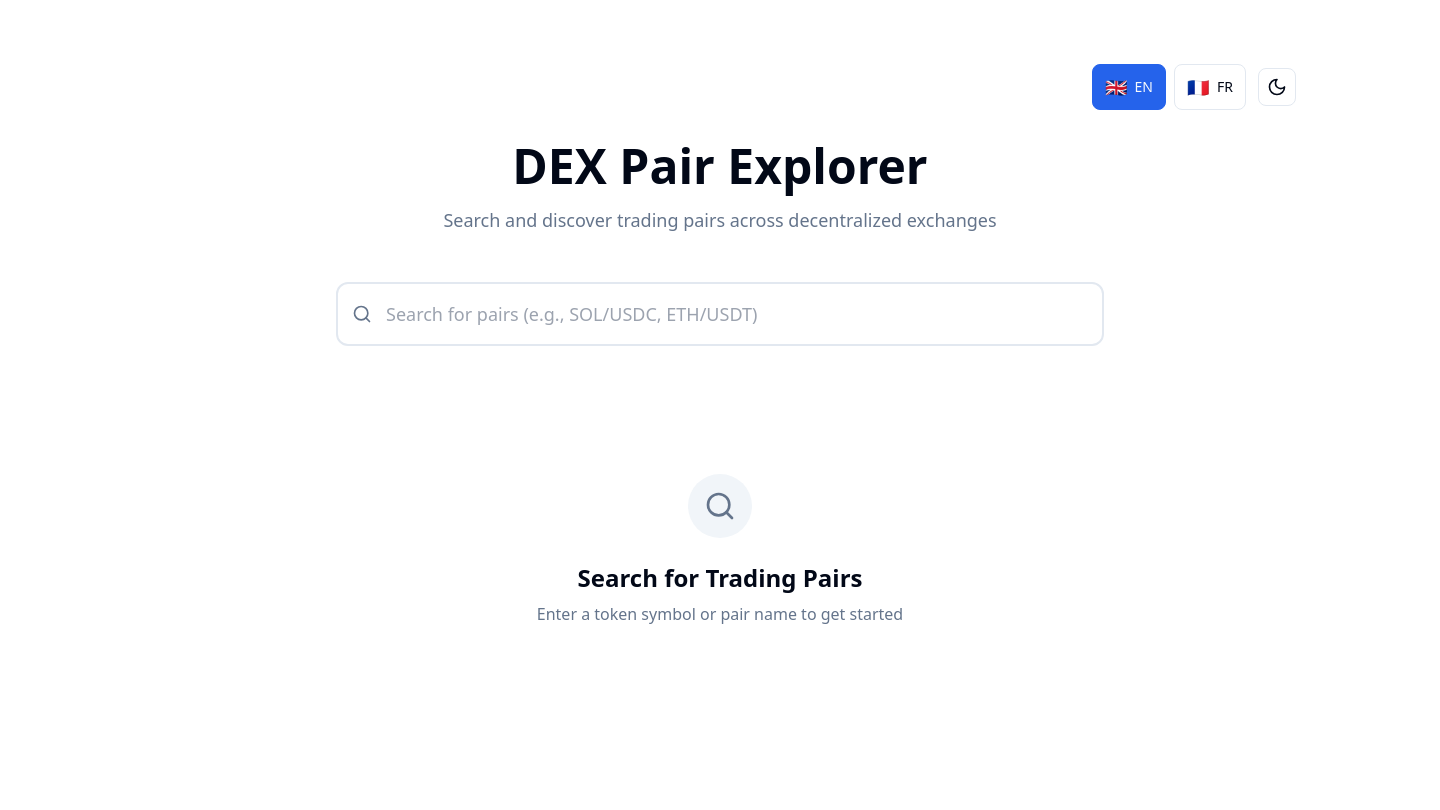
Test: SearchPage › should pass correct props to Pagination component
Type "SOL" into the field with placeholder "Search for pairs (e.g., SOL/USDC, ETH/USDT)". click: (720, 314)
box: [336,282,1104,346]
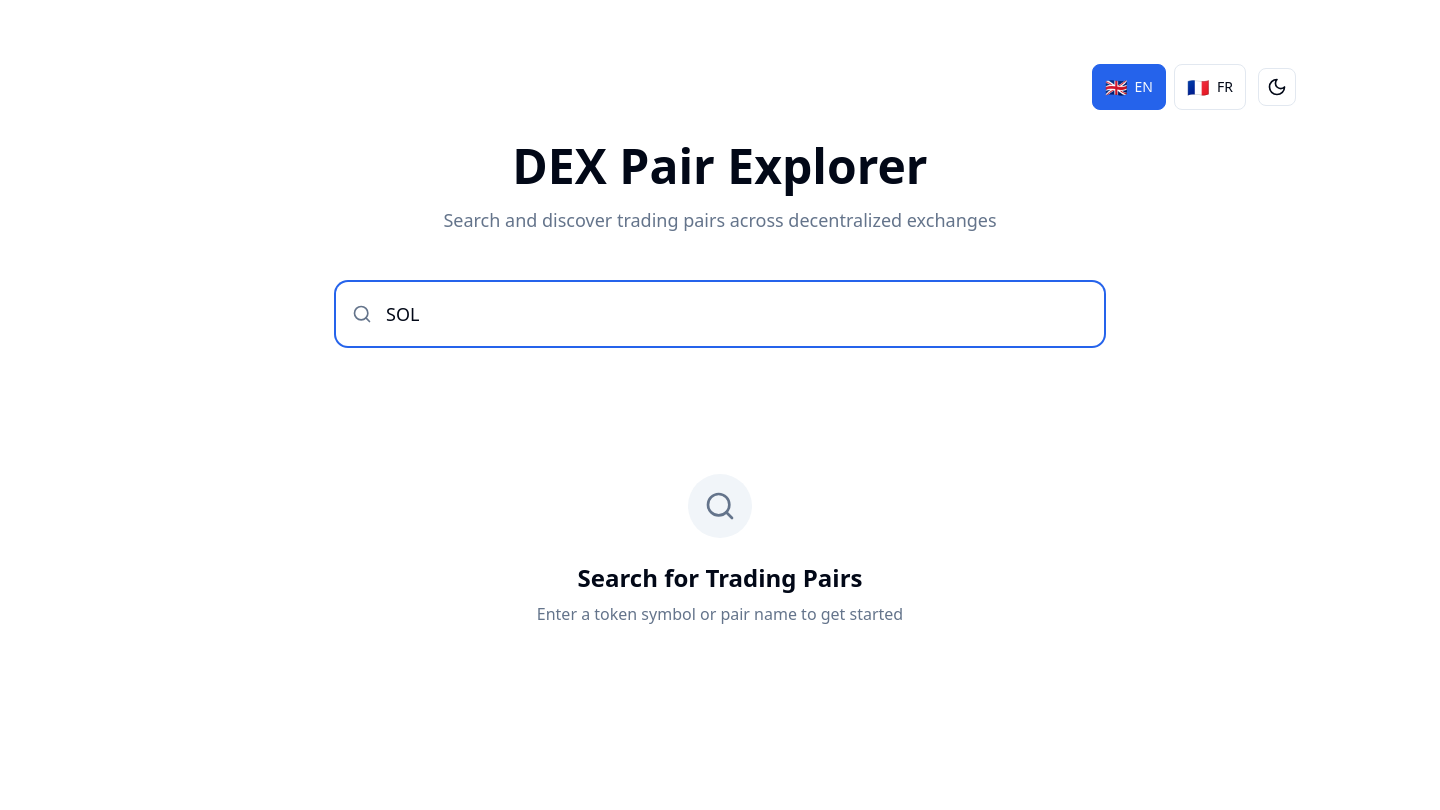
Press Enter
(page scrolled)
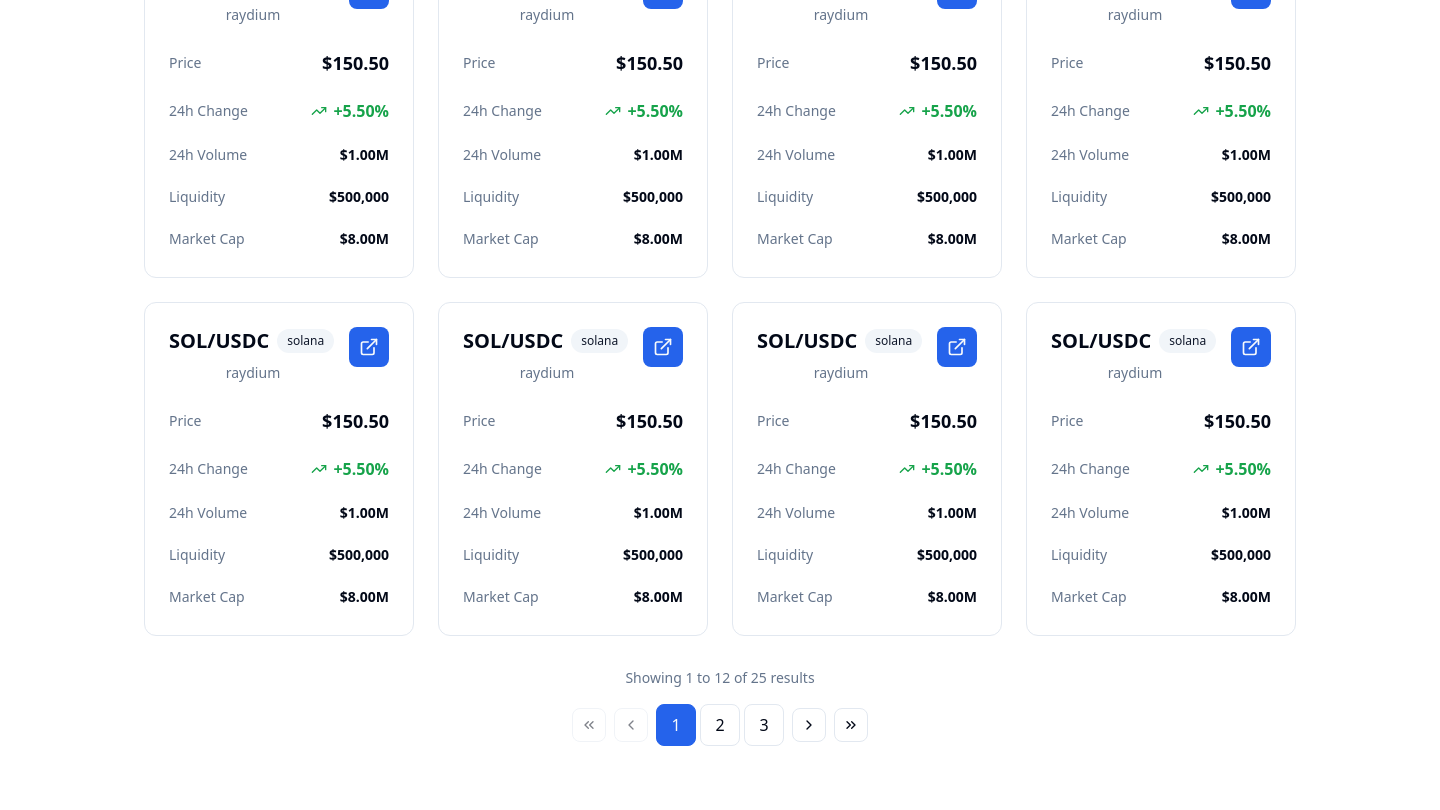
Expected: the text "Showing 1 to 12 of 25 results" is shown, [609,668,831,688]
Expected: the button named "next" is shown, [792,708,826,742]
Expected: the button named "previous" is shown, [614,708,648,742]
